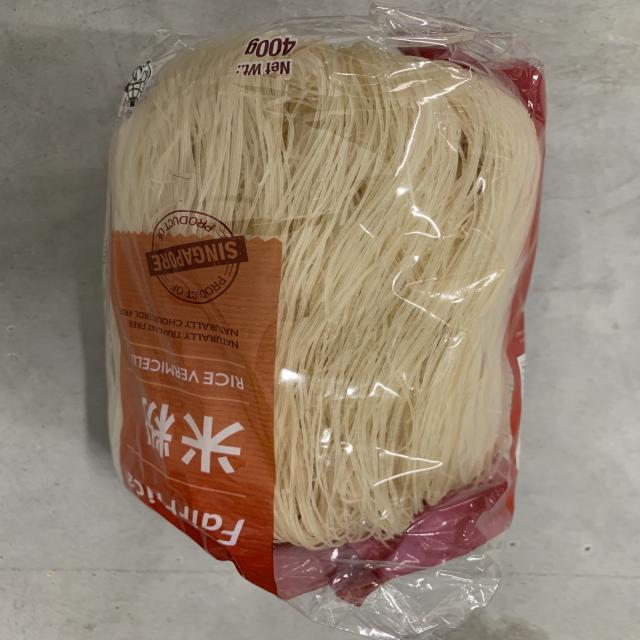object_name: (106, 36, 521, 589)
